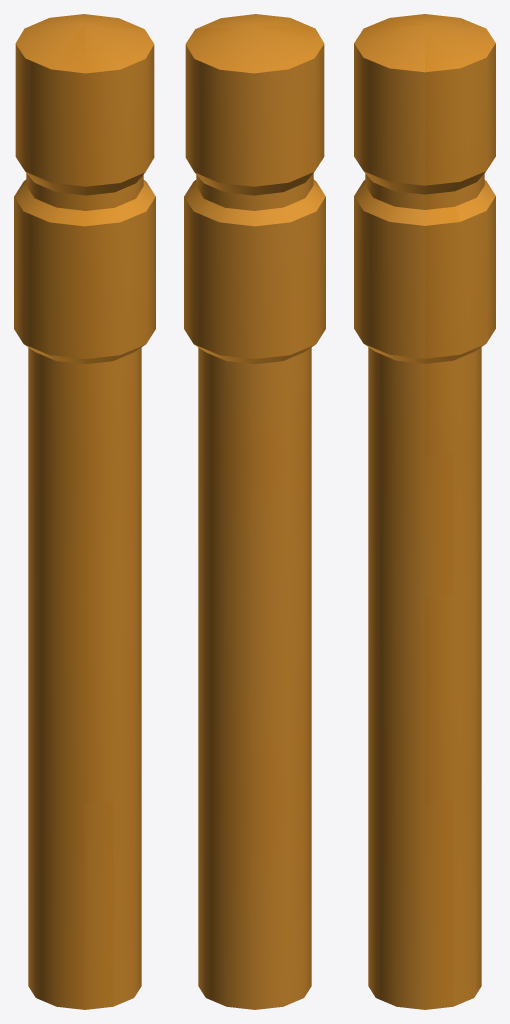
3 views of the same model, side by side, from view 1: azimuth 30°, elevation 25°; view 2: azimuth 150°, elevation 25°; view 3: azimuth 270°, elevation 25° (orthographic).
Visible parts, largest first — view 1: Joint_0_Object_0; view 2: Joint_0_Object_0; view 3: Joint_0_Object_0.
Part boxes in pixels (<box>): Joint_0_Object_0: <box>14,14,155,1009</box>; Joint_0_Object_0: <box>184,14,325,1009</box>; Joint_0_Object_0: <box>354,14,495,1009</box>.
Size of the model in its own units: 250 by 1867 by 250.
